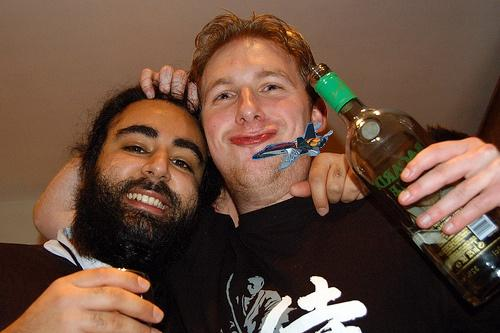tampered: (253, 123, 333, 170)
